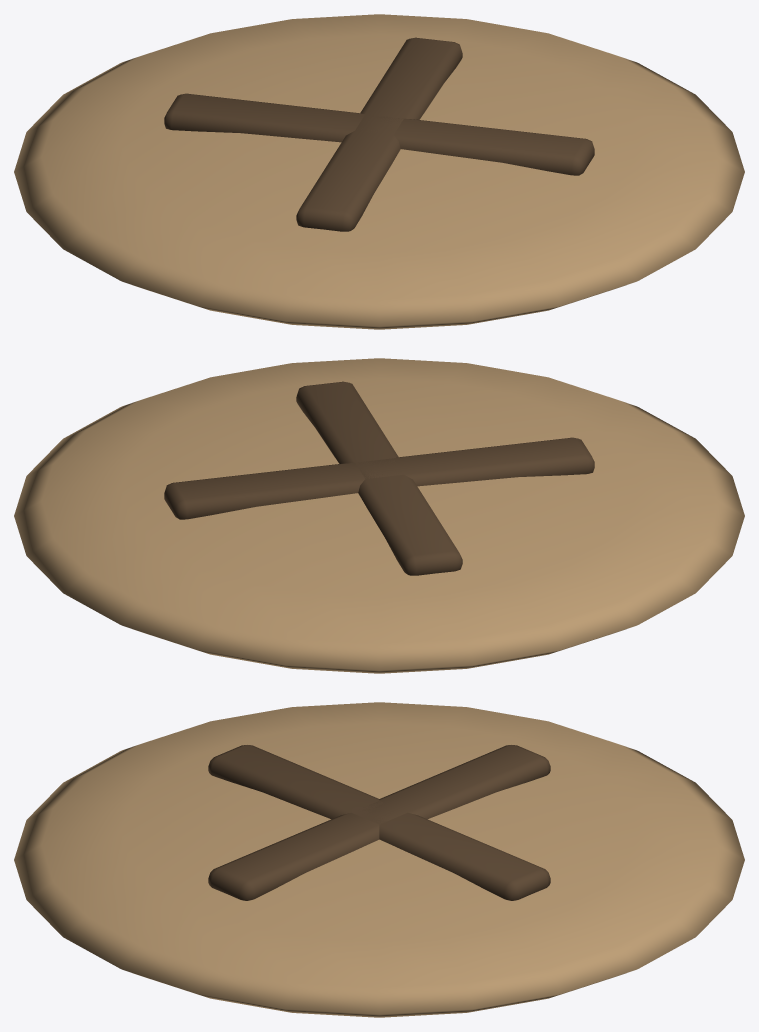
Rendered from fossil-spot.glb.
3 renders of one model, top to bottom at view 1: azimuth 30°, elevation 25°; view 2: azimuth 150°, elevation 25°; view 3: azimuth 270°, elevation 25°, orthographic.
Visible parts, largest first — view 1: spot; view 2: spot; view 3: spot.
Boxes of the visible parts, left/top/right/bottom form: spot: left=14, top=14, right=744, bottom=329; spot: left=14, top=358, right=744, bottom=673; spot: left=14, top=702, right=744, bottom=1017.
Bounding box in the file's own units: 0.84 × 0.11 × 0.84.
